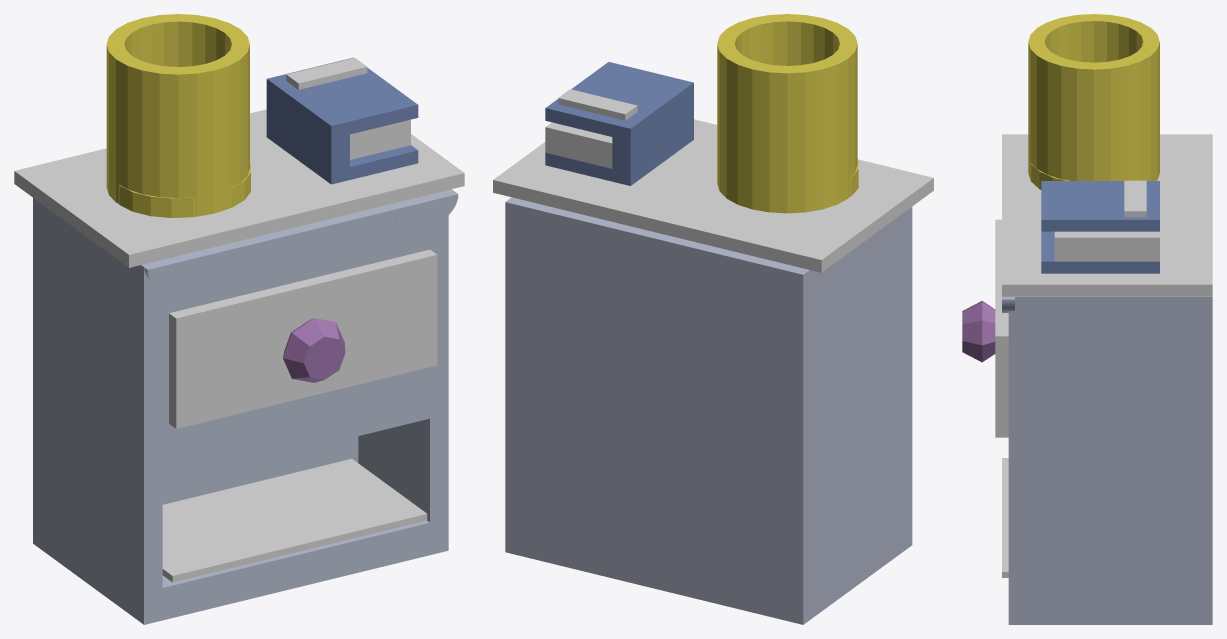
Rendered from project149.glb.
3 renders of one model, left to right at view 1: azimuth 30°, elevation 25°; view 2: azimuth 150°, elevation 25°; view 3: azimuth 270°, elevation 25°, orthographic. The views are drawn at different scales.
Visible parts, largest first — view 1: Mesh_Mesh_head_geo.001_lambert2SG.001; view 2: Mesh_Mesh_head_geo.001_lambert2SG.001; view 3: Mesh_Mesh_head_geo.001_lambert2SG.001.
Boxes of the visible parts, bbox=[...] form: Mesh_Mesh_head_geo.001_lambert2SG.001: bbox=[14, 14, 464, 624]; Mesh_Mesh_head_geo.001_lambert2SG.001: bbox=[493, 14, 933, 624]; Mesh_Mesh_head_geo.001_lambert2SG.001: bbox=[962, 14, 1212, 624].
Size of the model in its own units: 54 by 81 by 38.
